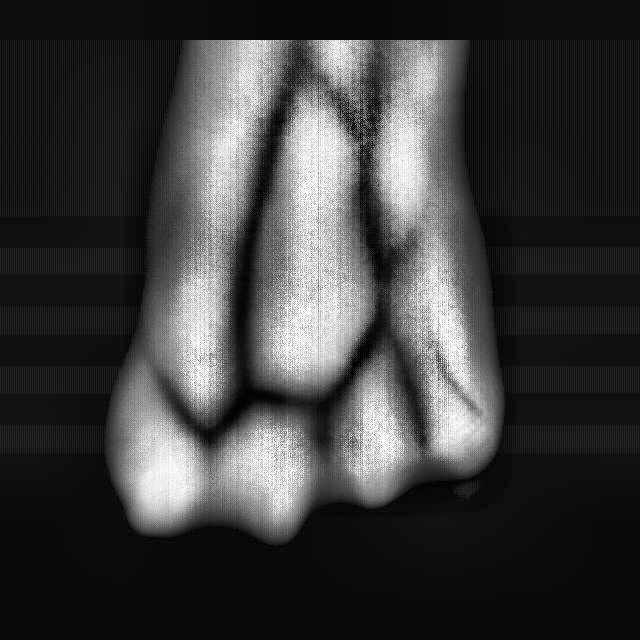Vein: (223, 127, 287, 370)
